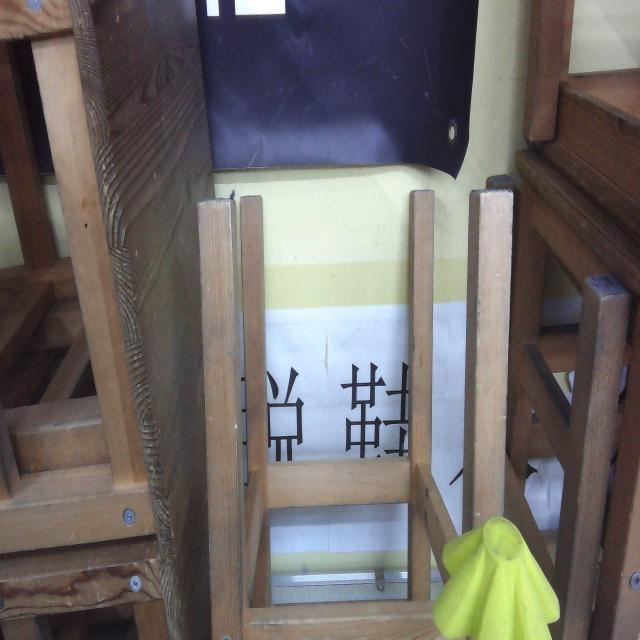Yellow-Stake-Head: (432, 517, 560, 639)
